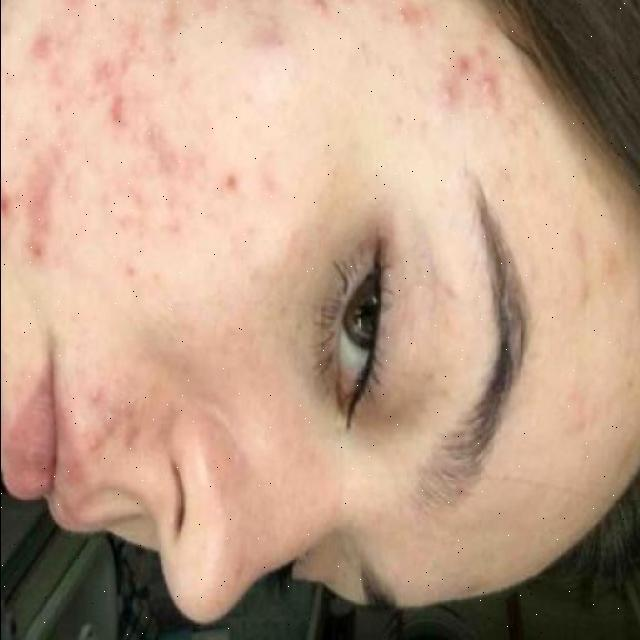Acne: (13, 0, 519, 262)
